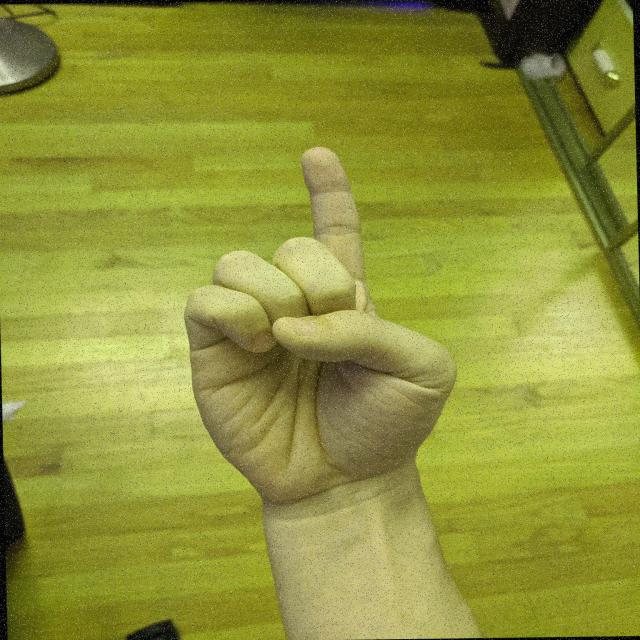D: (174, 141, 466, 513)
